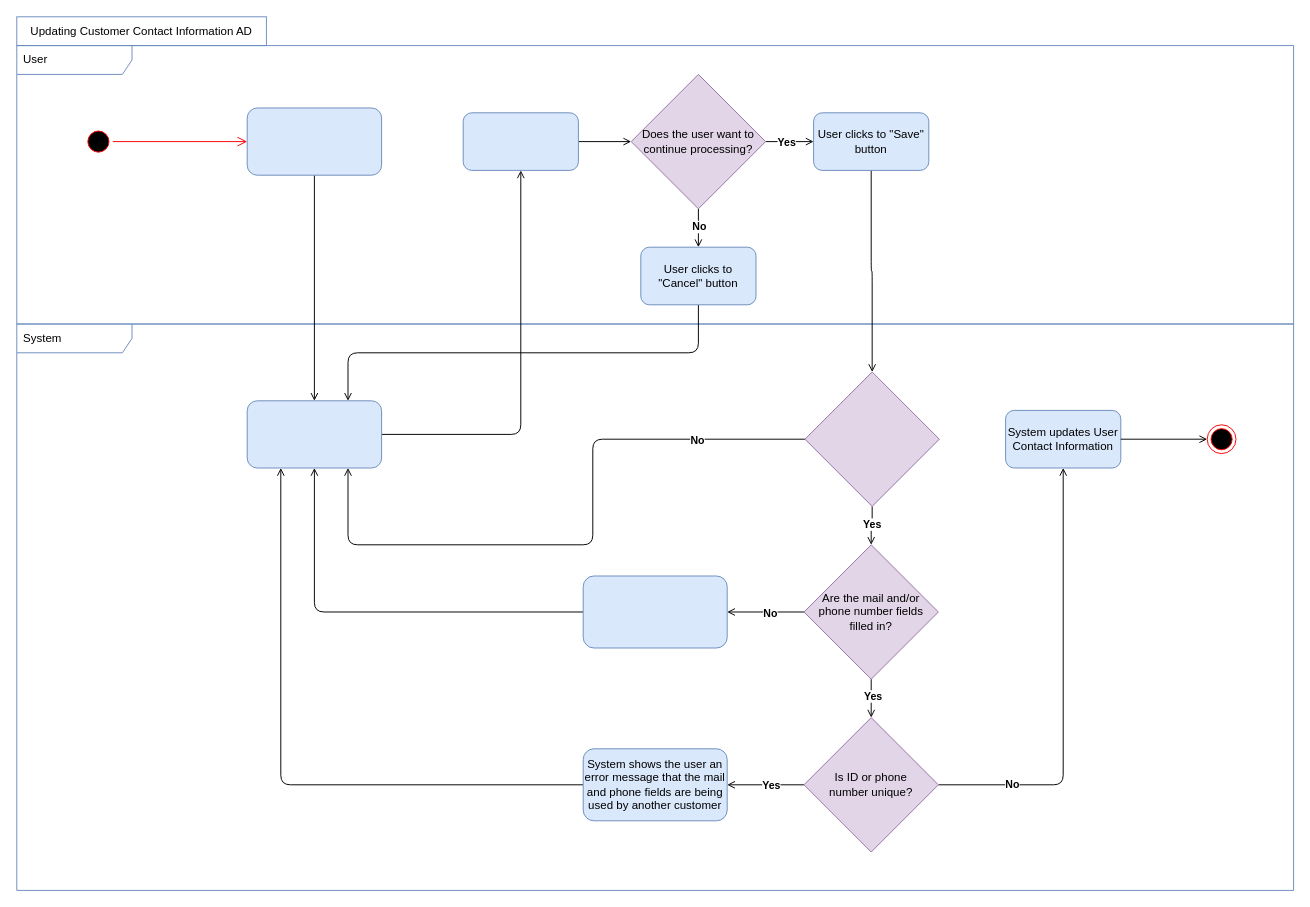
Image size: 1310x907. Some labels were removed from this diagram. Each missing label, with the box of its shape:
Is the information entered in the correct format?: (804, 371, 939, 506)
System displays error message to user that mail and phone fields cannot be empty: (582, 575, 727, 648)
System, opens the customer Contact Medium update page: (246, 400, 382, 468)
User clicks the pen icon on the Contact Medium page: (246, 107, 382, 175)
User edits the fields he wants to update: (462, 112, 578, 170)
